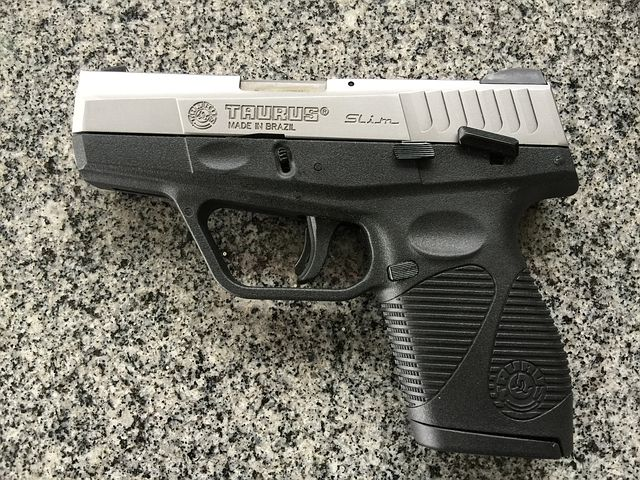gun: (65, 61, 591, 464)
